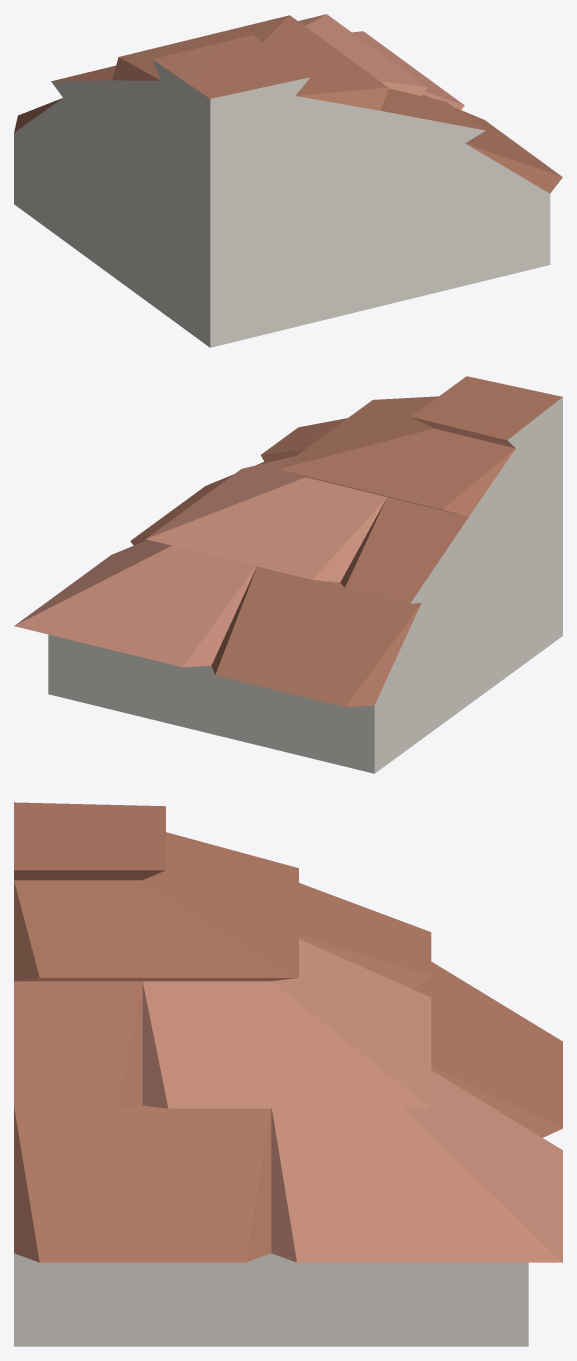
Rendered from Roof_Convex_Corner_Outer.glb.
The picture shows the model from 3 angles, top to bottom: view 1: azimuth 30°, elevation 25°; view 2: azimuth 150°, elevation 25°; view 3: azimuth 270°, elevation 25°; orthographic projection. The views are drawn at different scales.
Parts seen in each view (by area): view 1: object1; view 2: object1; view 3: object1.
Part boxes in pixels (box(x1,y1,x2,y2)): object1: box(14, 14, 562, 347); object1: box(14, 376, 562, 773); object1: box(14, 802, 562, 1346).
Size of the model in its own units: 1.07 by 0.7 by 1.07.
